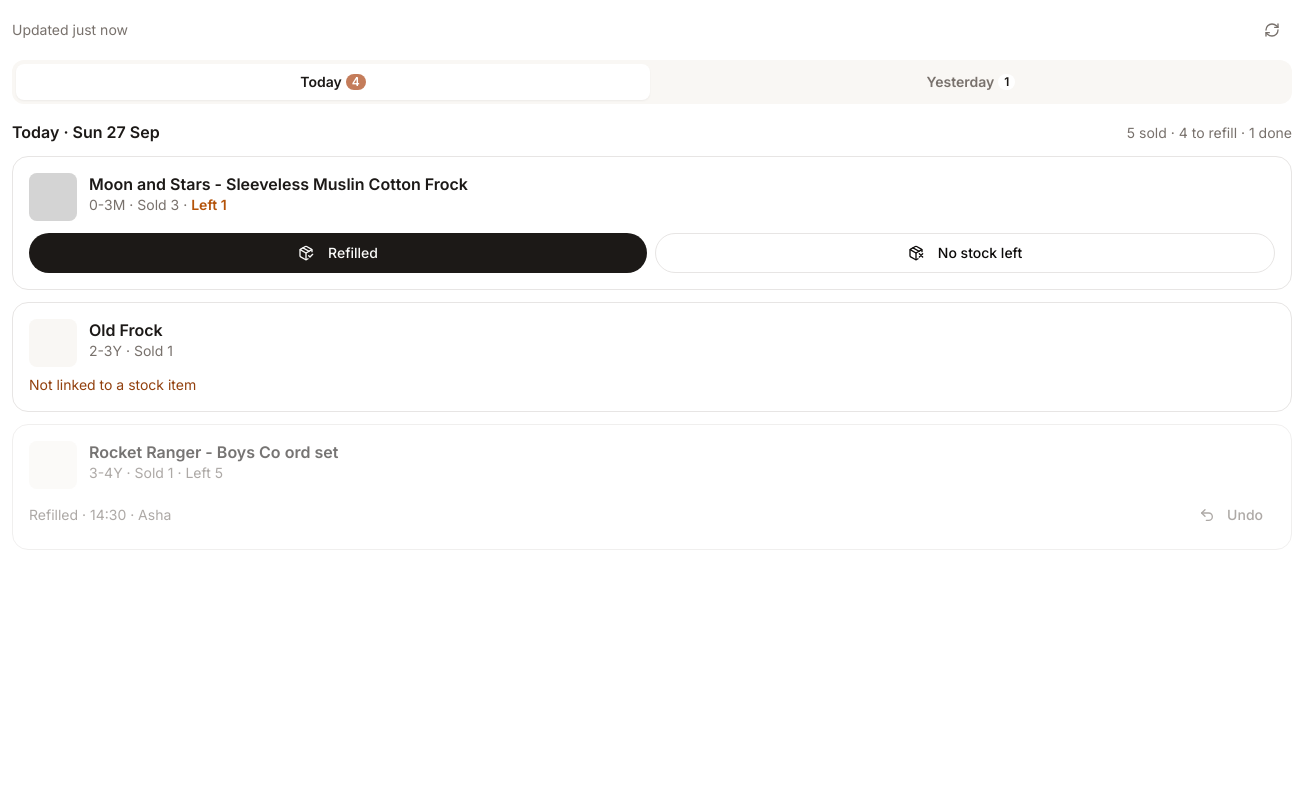
Test: stall refills list › a 401 on a background refresh shows the log-in prompt, not the refresh banner
The image size is (1304, 812).
Expected: the list item with test id "refill-line-frock-moon-0-3m" is shown, left=12, top=156, right=1292, bottom=290
Click the button named "Refresh" at (1272, 30), box left=1252, top=12, right=1292, bottom=48
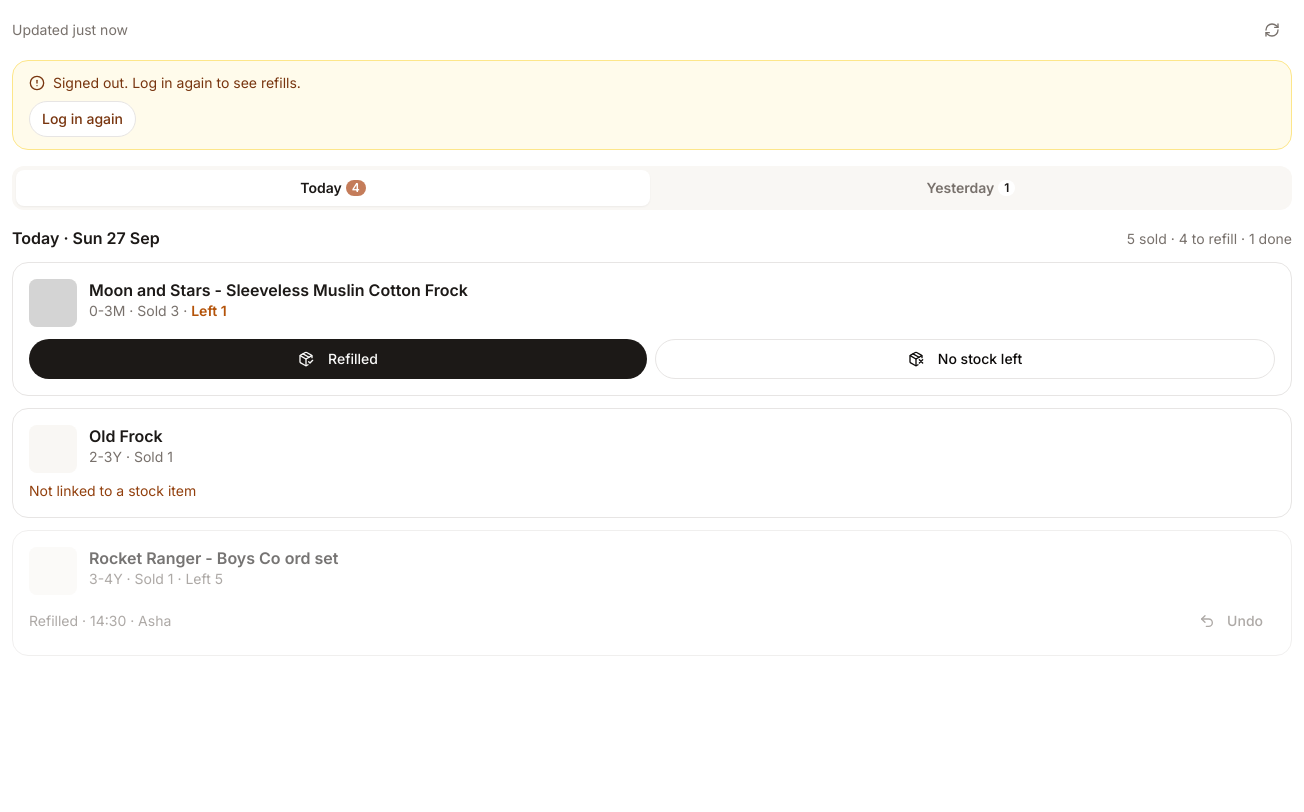
Expected: the list item with test id "refill-line-frock-moon-0-3m" is shown, left=12, top=262, right=1292, bottom=396
Now the text "Signed out. Log in again to see refills." is shown, box left=53, top=73, right=301, bottom=93
